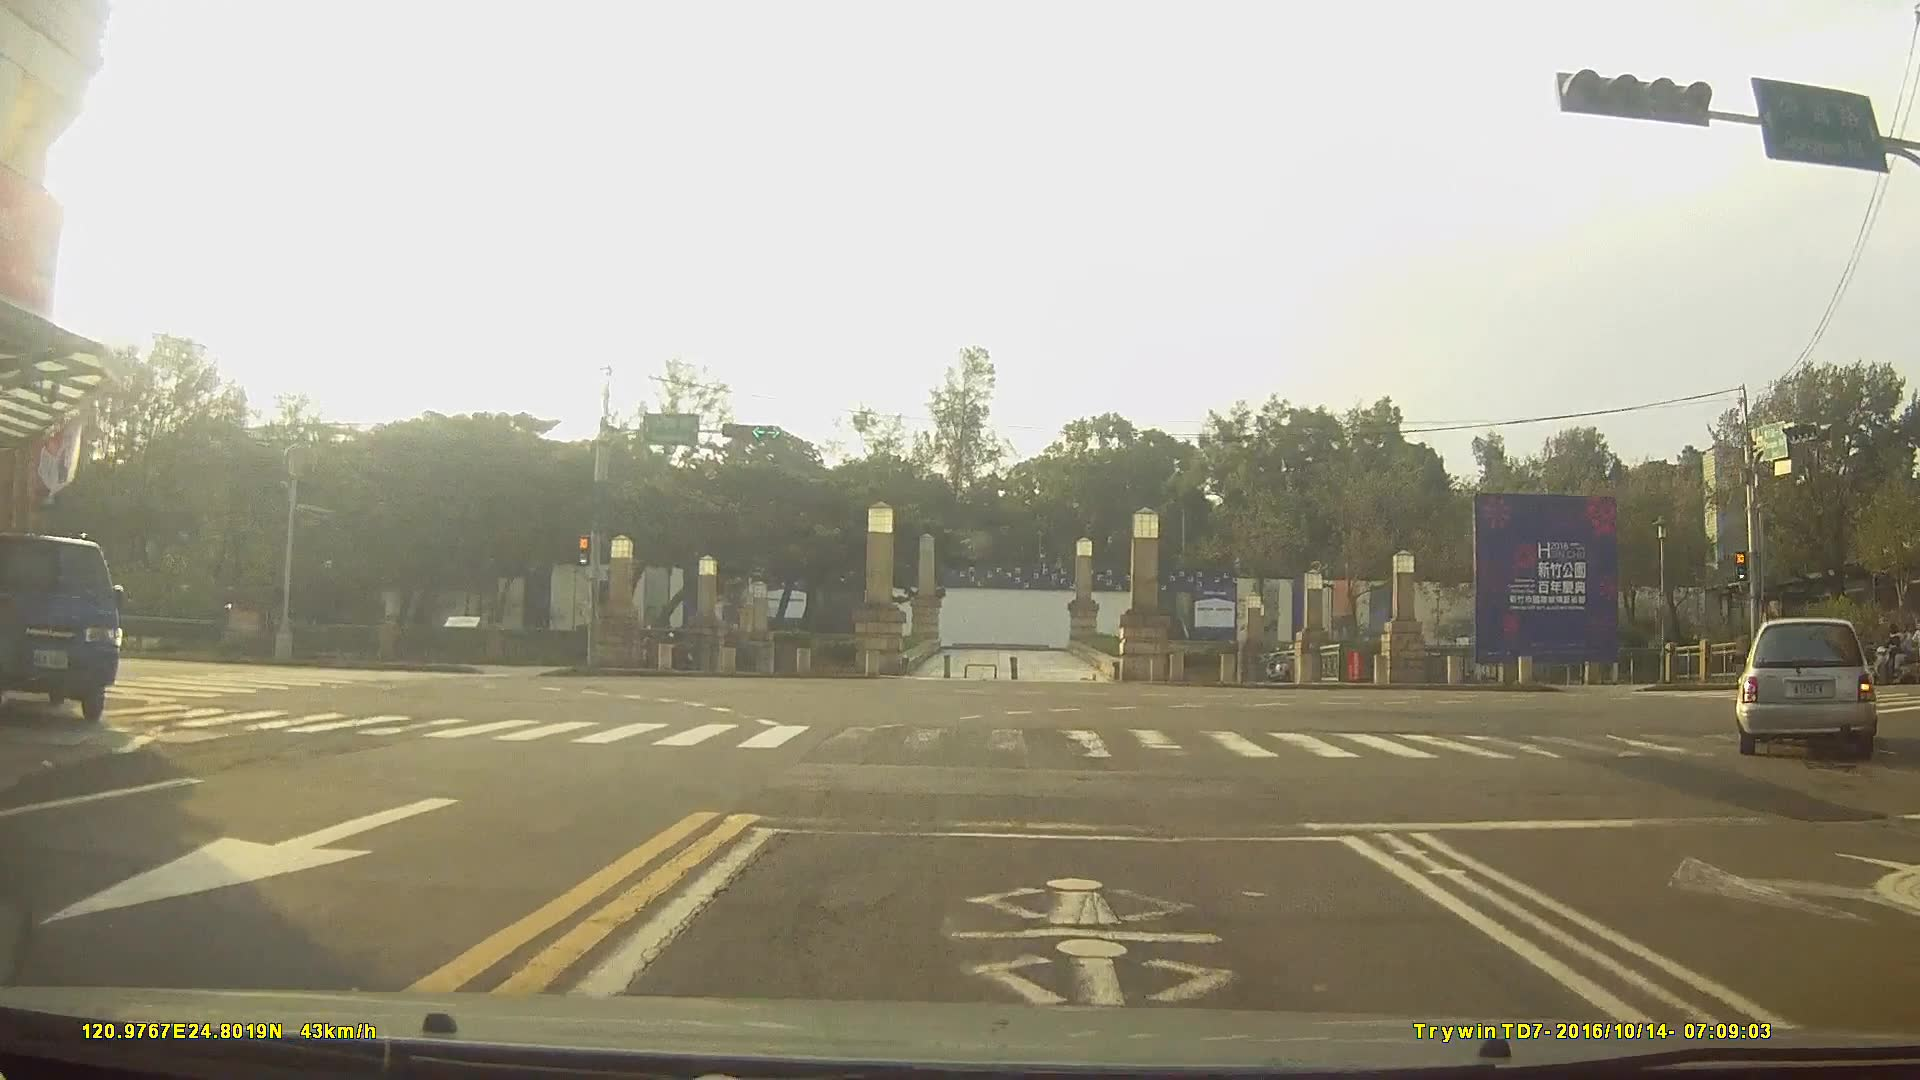vehicle: (0, 527, 121, 723), (1735, 612, 1878, 756)
